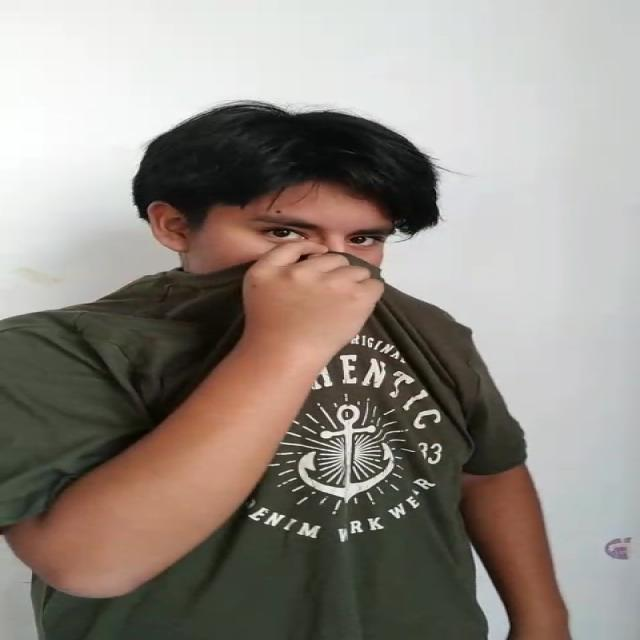8_ropa_rostro: (91, 248, 485, 376)
